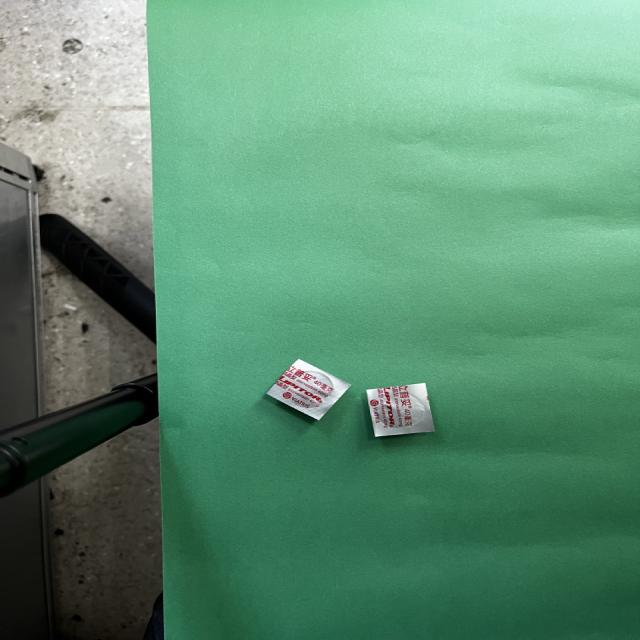Other Objects: (267, 360, 349, 420), (367, 384, 434, 436)
